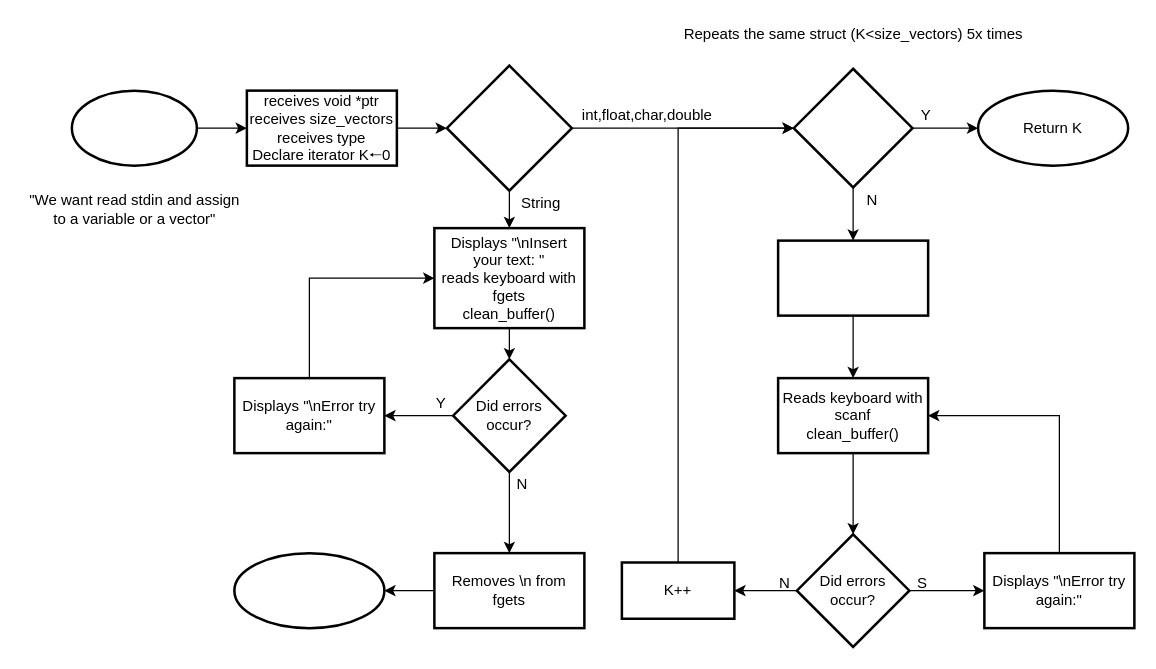
This 1156x669 diagram has some shape labels left out. The centre of each missing label's shape, as x and y in pixels:
Analyze the type: (508,127)
Displays "Please write info %d",k+1: (852,277)
good_reading: (134,127)
K< size_vectors: (852,127)
Return 1: (308,590)
